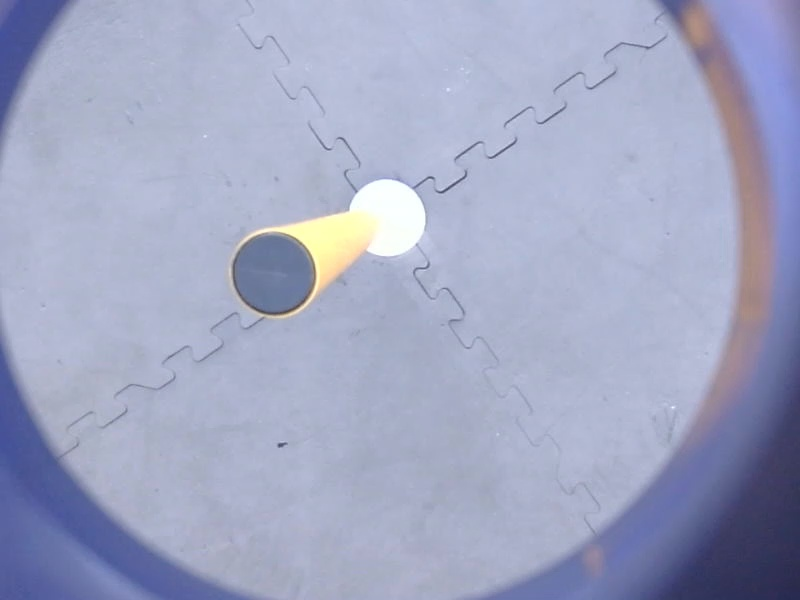tip: (222, 223, 325, 324)
